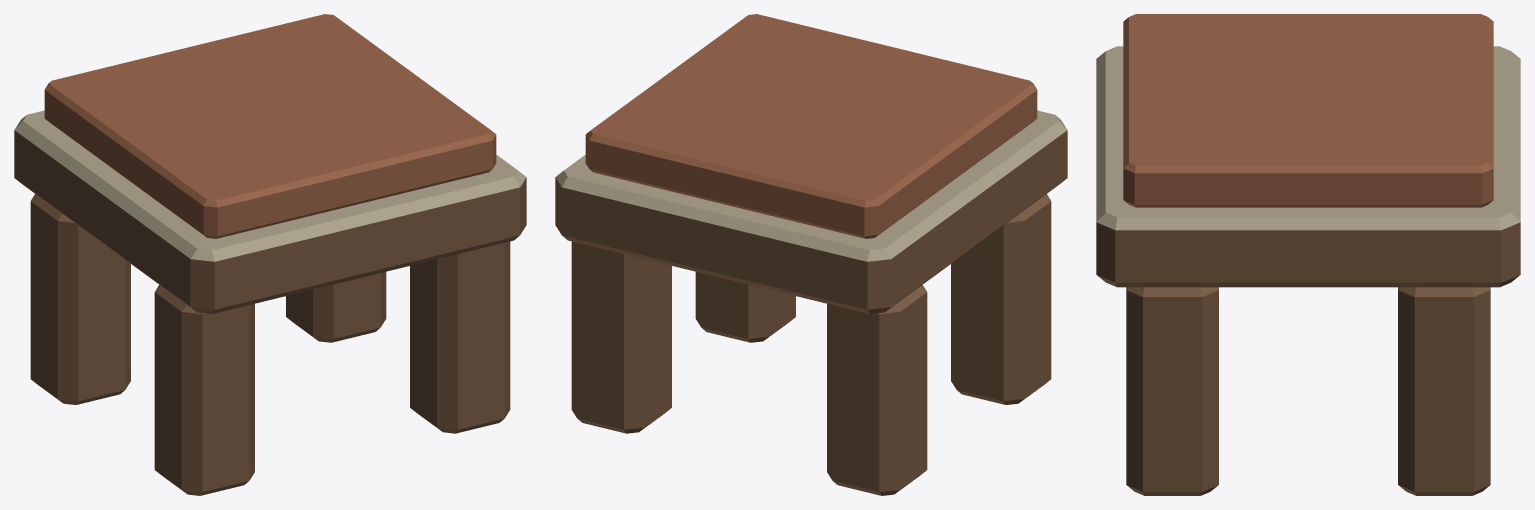
The model's file is tea-stool.glb.
3 views of the same model, side by side, from view 1: azimuth 30°, elevation 25°; view 2: azimuth 150°, elevation 25°; view 3: azimuth 270°, elevation 25° (orthographic). The views are drawn at different scales.
Parts seen in each view (by area): view 1: tea-stool__body; view 2: tea-stool__body; view 3: tea-stool__body.
Part boxes in pixels (box(x1,y1,x2,y2)): tea-stool__body: box(14, 14, 526, 495); tea-stool__body: box(555, 14, 1067, 495); tea-stool__body: box(1096, 14, 1520, 495).
Size of the model in its own units: 0.55 by 0.46 by 0.55.
